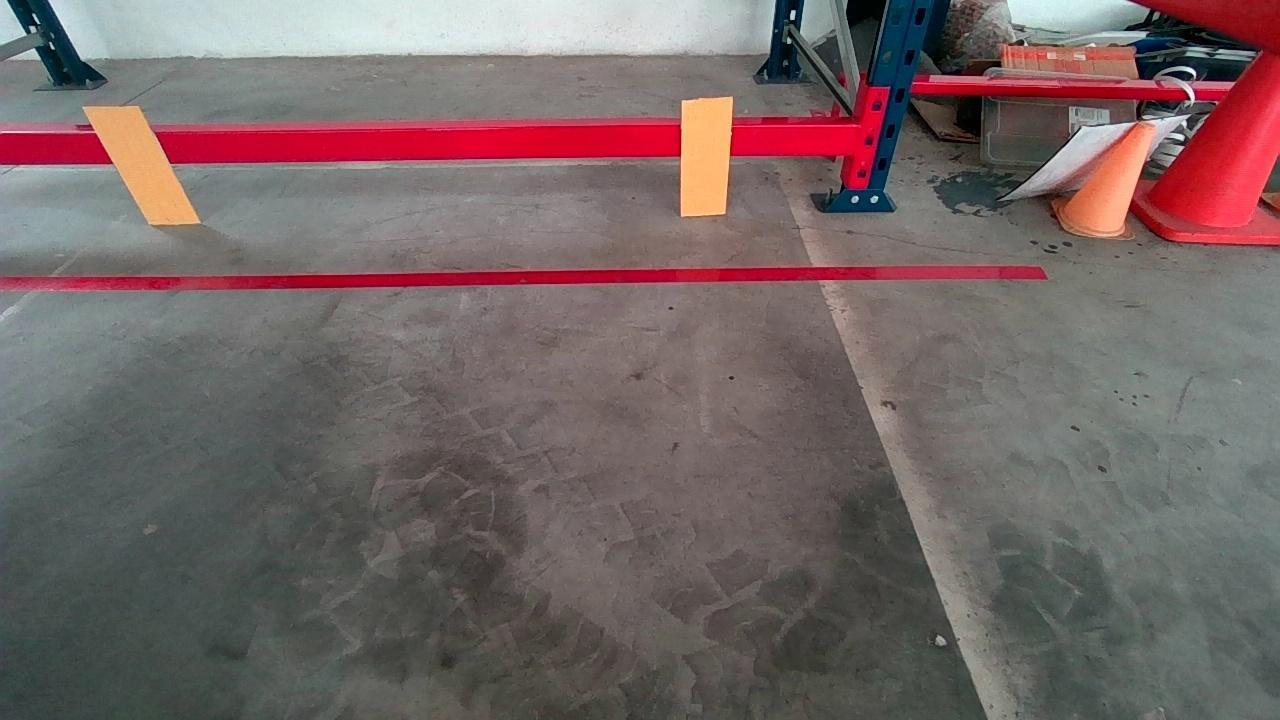h_rack: (8, 121, 865, 166)
orange_strip: (83, 105, 197, 223), (680, 99, 731, 215)
red_line: (6, 262, 1038, 290)
